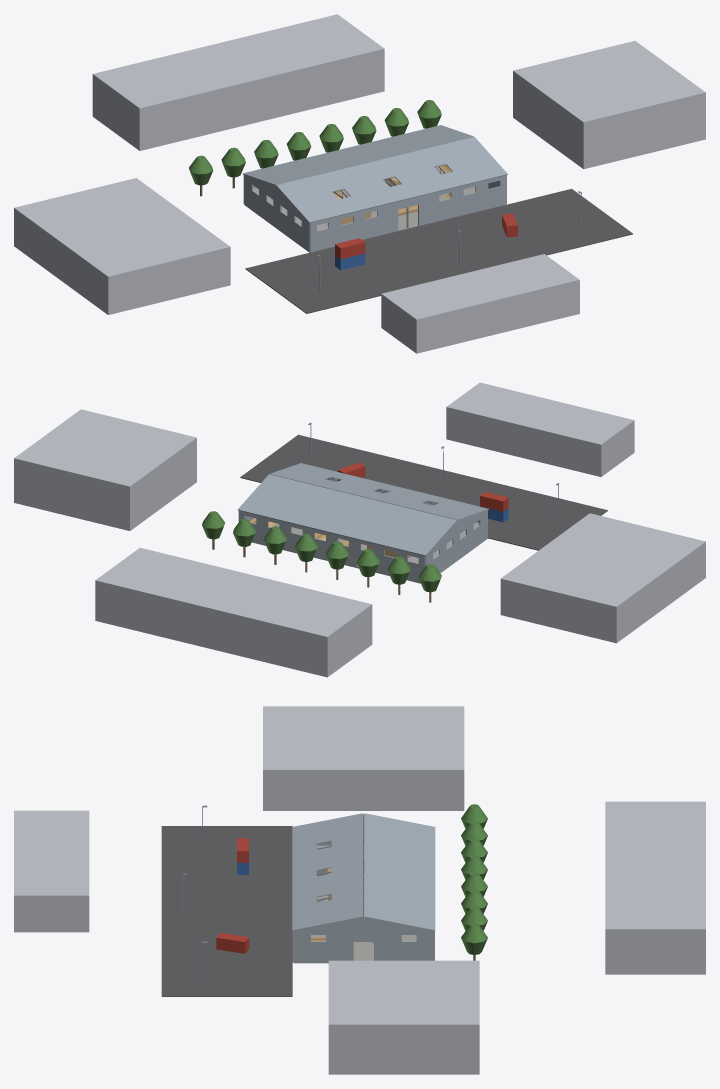
File: skate_park_c.glb
3 views of the same model, one above another, from view 1: azimuth 30°, elevation 25°; view 2: azimuth 150°, elevation 25°; view 3: azimuth 270°, elevation 25° (orthographic). The views are drawn at different scales.
Parts seen in each view (by area): view 1: unit_002, unit, yard, unit_001, unit_003, roof_n, roof_s_005, roof_s, wall_s_001, wall_s, wall_w, wall_s_011 (+1 smaller); view 2: unit_002, unit, unit_001, unit_003, yard, roof_n, roof_s_005, roof_s, wall_w, wall_n_002, wall_n_012; view 3: yard, unit, unit_002, unit_001, unit_003, roof_n, roof_s_005, roof_s, wall_e, wall_e_001, gable_001, hall_floor (+2 smaller).
Part boxes in pixels (x1,y1,x2,y2): unit_002: [92, 14, 384, 150]; unit: [14, 178, 230, 314]; yard: [245, 189, 632, 313]; unit_001: [513, 41, 705, 169]; unit_003: [381, 254, 579, 353]; roof_n: [242, 125, 473, 185]; roof_s_005: [276, 137, 489, 201]; roof_s: [298, 161, 507, 222]; wall_s_001: [418, 185, 506, 225]; wall_s: [310, 212, 398, 252]; wall_w: [243, 185, 310, 251]; wall_s_011: [310, 175, 506, 226]; unit_002: [95, 547, 372, 677]; unit: [500, 513, 705, 643]; unit_001: [14, 409, 196, 530]; unit_003: [446, 382, 634, 476]; yard: [240, 434, 607, 550]; roof_n: [237, 474, 456, 555]; roof_s_005: [269, 469, 471, 520]; roof_s: [290, 463, 488, 513]; wall_w: [425, 520, 487, 572]; wall_n_002: [239, 520, 424, 573]; wall_n_012: [239, 510, 424, 559]; yard: [161, 826, 292, 996]; unit: [263, 706, 464, 810]; unit_002: [605, 801, 705, 974]; unit_001: [328, 960, 479, 1074]; unit_003: [14, 810, 89, 932]; roof_n: [364, 813, 435, 930]; roof_s_005: [331, 813, 363, 923]; roof_s: [292, 822, 316, 930]; wall_e: [293, 941, 353, 962]; wall_e_001: [374, 941, 434, 960]; gable_001: [298, 916, 429, 930]; hall_floor: [293, 869, 416, 963].
Size of what is drawn, in the model's own units: 154 by 11.3 by 138.
